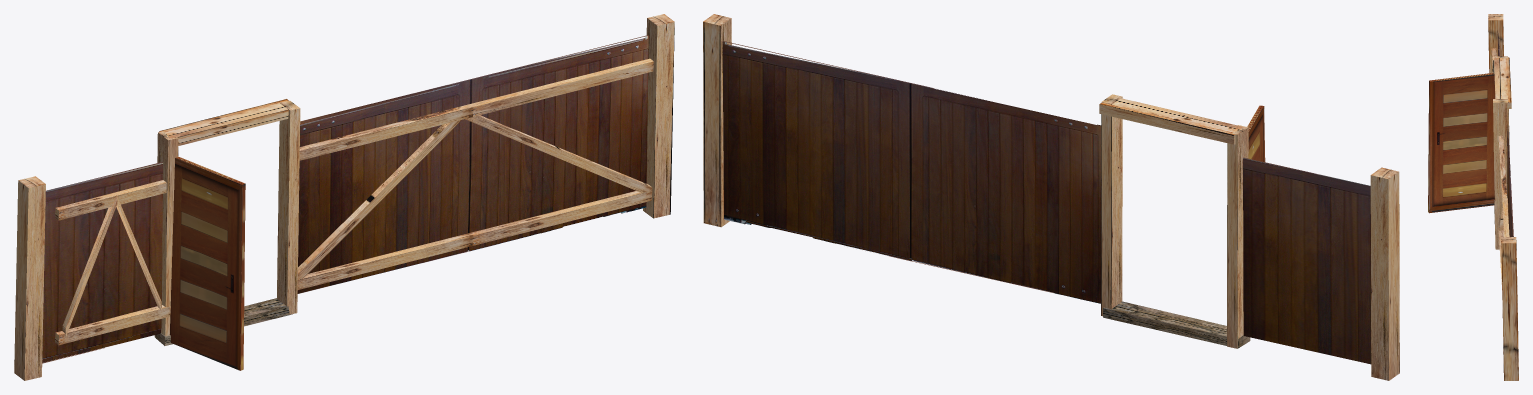
File: poartaCASAnpcMegan.fbx
3 views of the same model, side by side, from view 1: azimuth 30°, elevation 25°; view 2: azimuth 150°, elevation 25°; view 3: azimuth 270°, elevation 25° (orthographic). The views are drawn at different scales.
Visible parts, largest first — view 1: Cube, Cube.004, Cube.414, Cube.006, Cube.305, Cube.316, Cube.304, Cube.303, Cube.317, Cube.003, Cube.002, Cube.005 (+3 smaller); view 2: Cube, Cube.004, Cube.006, Cube.316, Cube.317, Cube.002, Cube.003, Cube.409, Cube.414; view 3: Cube.414, Cube.316, Cube.317, Cube.003, Cube.006, Cube.305, Cube, Cube.303, Cube.304, Cube.002.
Boxes of the visible parts, bbox=[...] form: Cube: bbox=[297, 35, 648, 293]; Cube.004: bbox=[42, 162, 163, 363]; Cube.414: bbox=[170, 156, 245, 370]; Cube.006: bbox=[14, 176, 45, 380]; Cube.305: bbox=[299, 58, 653, 160]; Cube.316: bbox=[643, 14, 674, 218]; Cube.304: bbox=[297, 190, 652, 289]; Cube.303: bbox=[298, 115, 652, 279]; Cube.317: bbox=[277, 100, 300, 314]; Cube.003: bbox=[159, 99, 288, 145]; Cube.002: bbox=[154, 131, 178, 337]; Cube.005: bbox=[62, 195, 161, 337]; Cube: bbox=[722, 41, 1101, 303]; Cube.004: bbox=[1243, 157, 1371, 364]; Cube.006: bbox=[1370, 167, 1399, 380]; Cube.316: bbox=[703, 14, 731, 227]; Cube.317: bbox=[1101, 94, 1122, 316]; Cube.002: bbox=[1227, 125, 1248, 348]; Cube.003: bbox=[1099, 98, 1244, 144]; Cube.409: bbox=[1103, 301, 1250, 348]; Cube.414: bbox=[1247, 105, 1265, 161]; Cube.414: bbox=[1428, 73, 1495, 213]; Cube.316: bbox=[1501, 237, 1518, 380]; Cube.317: bbox=[1493, 99, 1508, 249]; Cube.003: bbox=[1494, 57, 1511, 108]; Cube.006: bbox=[1488, 14, 1503, 73]; Cube.305: bbox=[1498, 135, 1509, 236]; Cube: bbox=[1507, 125, 1513, 236]; Cube.303: bbox=[1498, 196, 1508, 236]; Cube.304: bbox=[1498, 228, 1503, 289]; Cube.002: bbox=[1493, 56, 1509, 150].
Size of the model in its own units: 4340 by 1302 by 726.
Materials: 9 (9 with a texture image).
